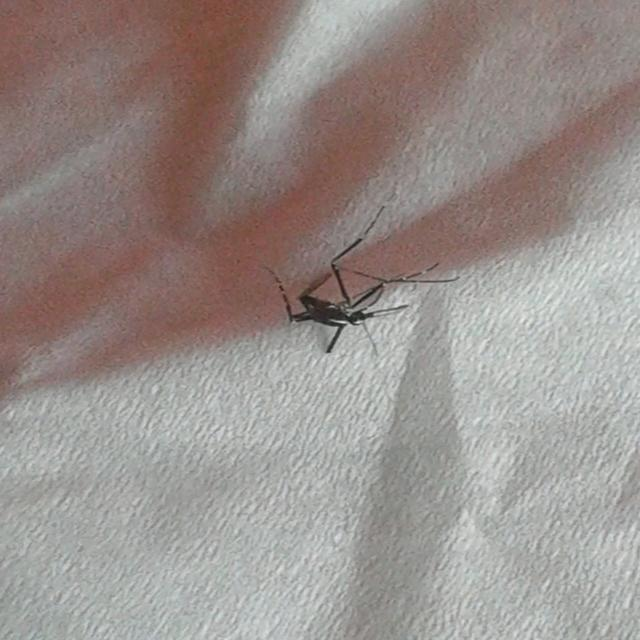albopictus: (245, 196, 468, 357)
